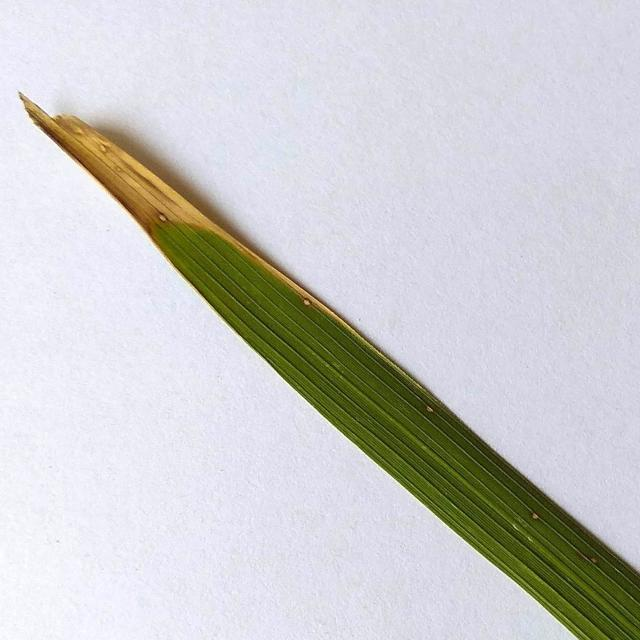Blast: (152, 206, 174, 230), (526, 507, 544, 526), (585, 553, 605, 570), (421, 398, 439, 414), (298, 289, 312, 309)
